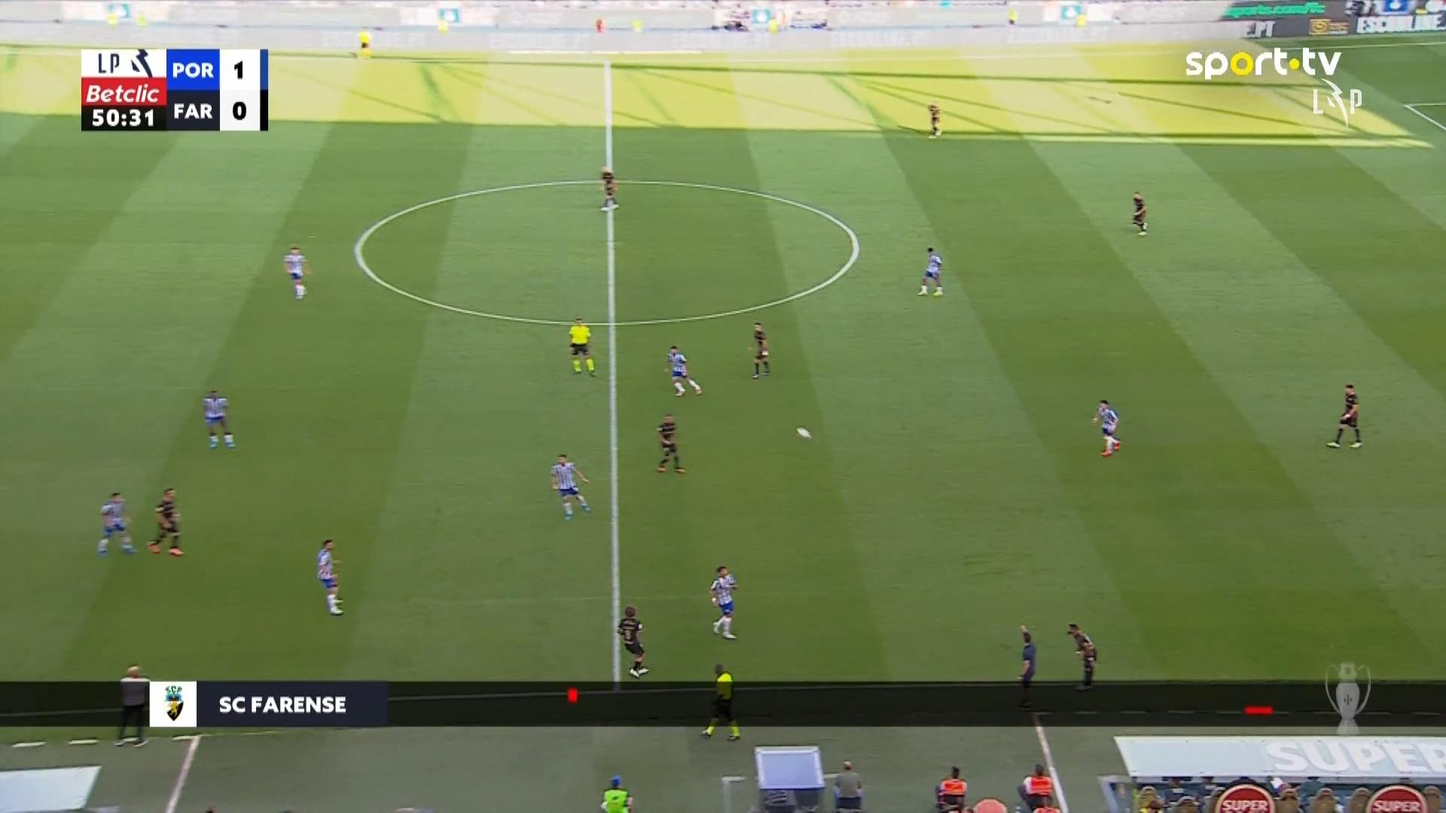ball: (796, 426, 810, 440)
player: (549, 453, 590, 520), (96, 491, 137, 556), (147, 486, 184, 556), (616, 604, 649, 678), (1326, 382, 1362, 448), (1066, 622, 1098, 690), (709, 565, 738, 639), (316, 537, 343, 615), (664, 344, 702, 397), (202, 388, 235, 449), (654, 413, 685, 473), (1091, 397, 1121, 457), (282, 245, 310, 300), (917, 246, 944, 297), (748, 320, 770, 379), (599, 774, 633, 811), (599, 168, 619, 211), (1130, 190, 1148, 236), (927, 100, 943, 139)
referee: (700, 662, 740, 741), (567, 316, 596, 377), (358, 27, 371, 61)
